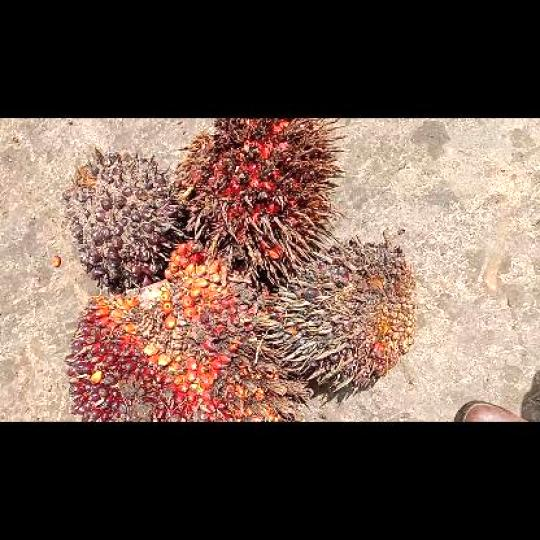kurang masak: (60, 146, 181, 290)
masak: (64, 241, 305, 421)
terlalu masak: (174, 118, 345, 284)
